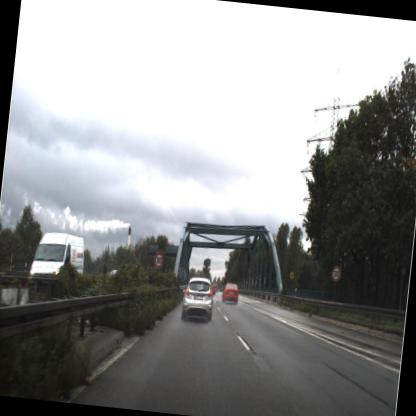prohibitory: (148, 249, 167, 271), (328, 260, 342, 286)
